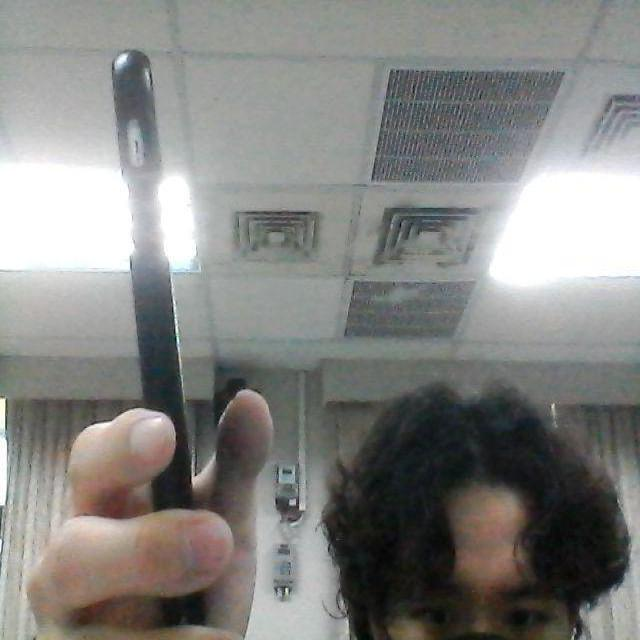mobile: (100, 43, 197, 544)
